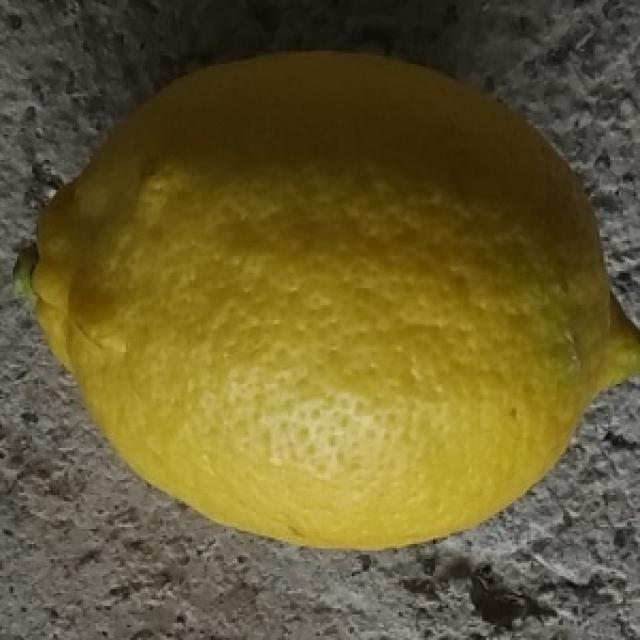Ripe: (10, 44, 640, 558)
